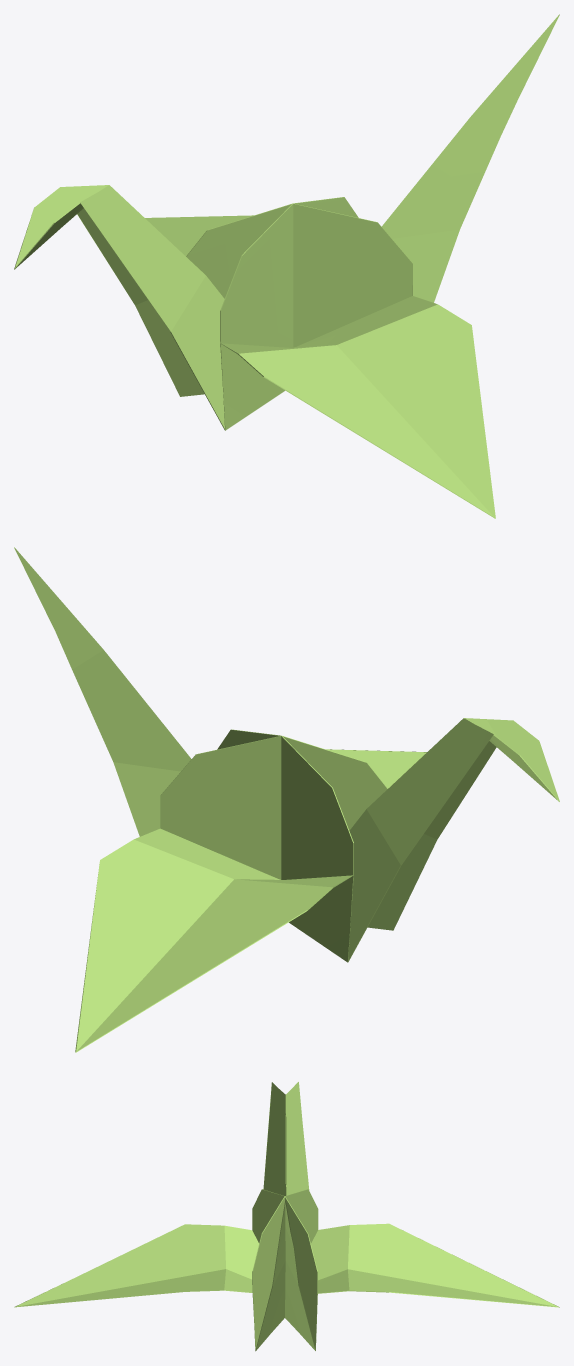
Rendered from Ethan.fbx.
The picture shows the model from 3 angles, top to bottom: view 1: azimuth 30°, elevation 25°; view 2: azimuth 150°, elevation 25°; view 3: azimuth 270°, elevation 25°; orthographic projection. The views are drawn at different scales.
Visible parts, largest first — view 1: Crane001.001; view 2: Crane001.001; view 3: Crane001.001.
Boxes of the visible parts, box(x1,y1,x2,y2) form: Crane001.001: box(14, 14, 559, 518); Crane001.001: box(14, 547, 559, 1052); Crane001.001: box(14, 1082, 559, 1351).
Size of the model in its own units: 322 by 177 by 418.
